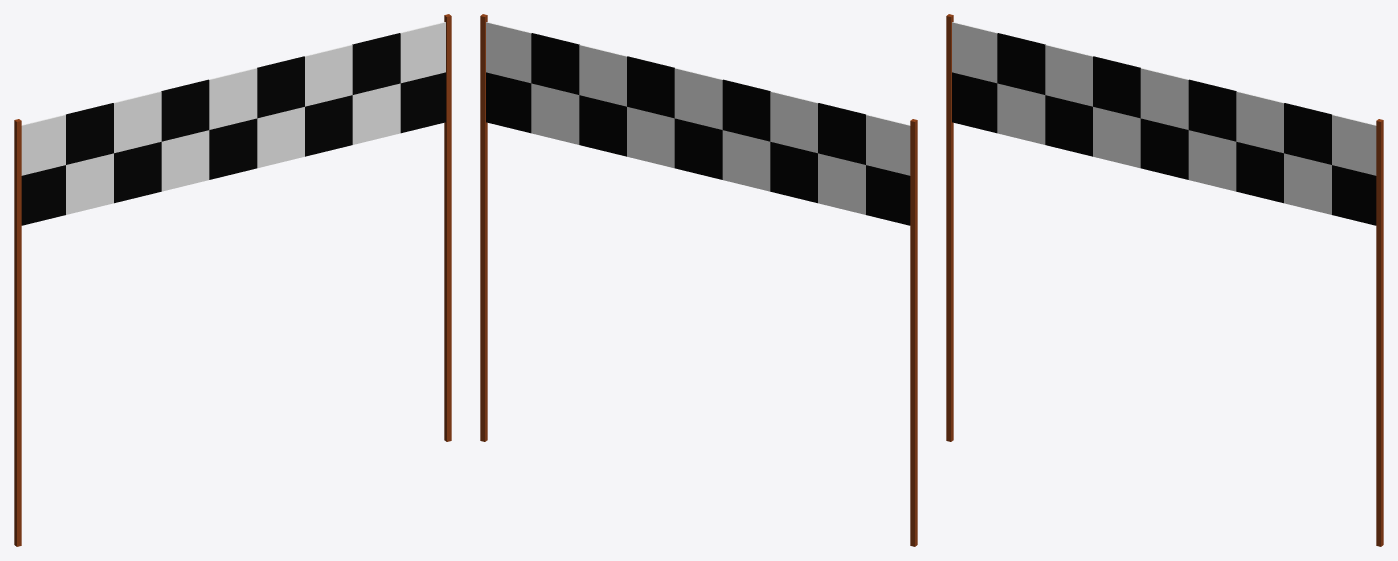
The model's file is traguardo.fbx.
3 views of the same model, side by side, from view 1: azimuth 30°, elevation 25°; view 2: azimuth 150°, elevation 25°; view 3: azimuth 330°, elevation 25° (orthographic).
Visible parts, largest first — view 1: parte_nera, Cube, Cube_1; view 2: parte_nera, Cube, Cube_1; view 3: parte_nera, Cube_1, Cube.
Part boxes in pixels (x1,y1,x2,y2): parte_nera: (21,22,445,225); Cube: (14,119,21,546); Cube_1: (444,14,451,441); parte_nera: (486,22,910,225); Cube: (910,119,917,546); Cube_1: (480,14,487,441); parte_nera: (952,22,1376,225); Cube_1: (1376,119,1383,546); Cube: (946,14,953,441).
Bounding box in the file's own units: 1820 × 1700 × 20.
